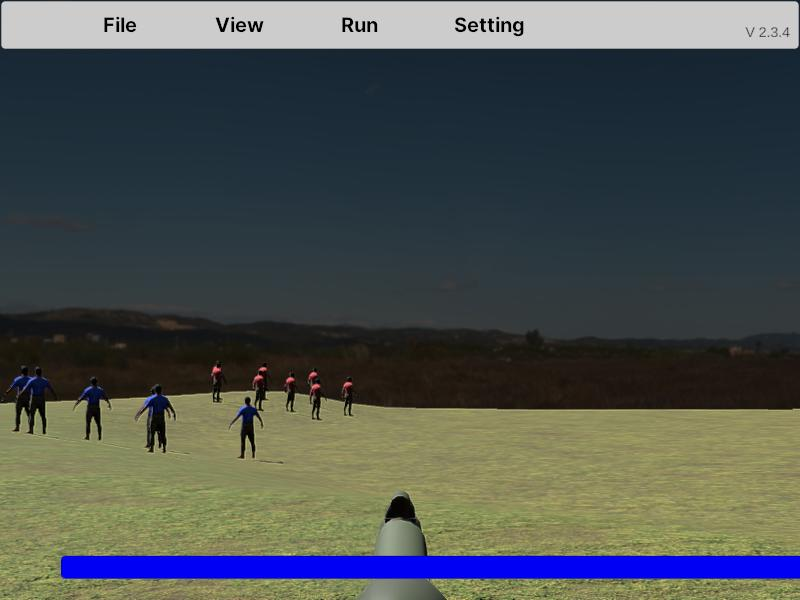Human: (136, 384, 176, 454), (18, 366, 57, 435), (73, 375, 112, 441), (5, 364, 42, 432), (229, 396, 264, 459)
